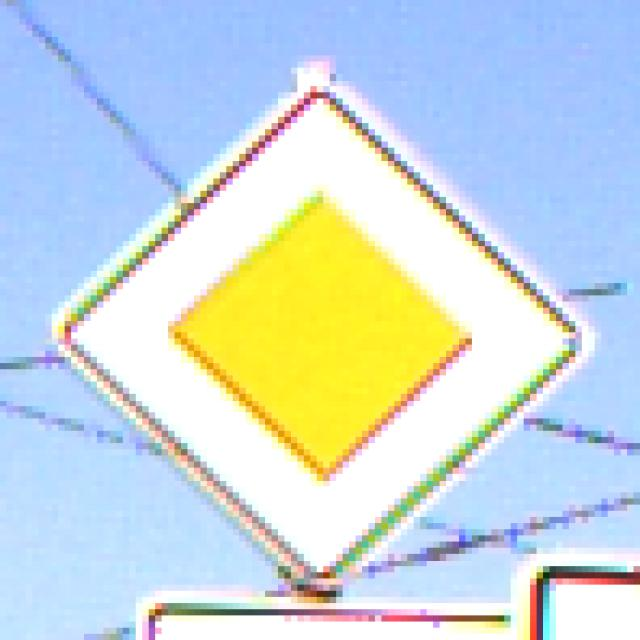Main Road: (53, 57, 589, 580)
